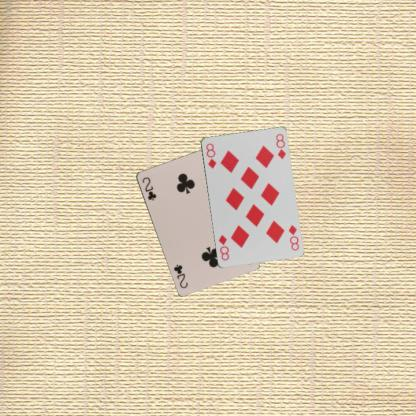2c: (139, 174, 157, 202)
8d: (285, 222, 300, 251), (204, 140, 218, 170)
